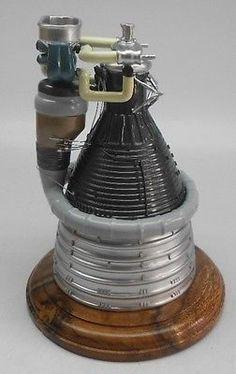thruster: (48, 115, 202, 320)
